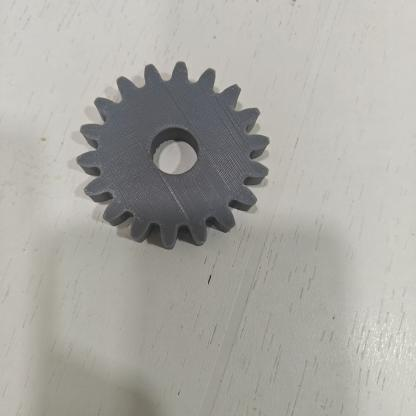gear: (64, 53, 284, 256)
